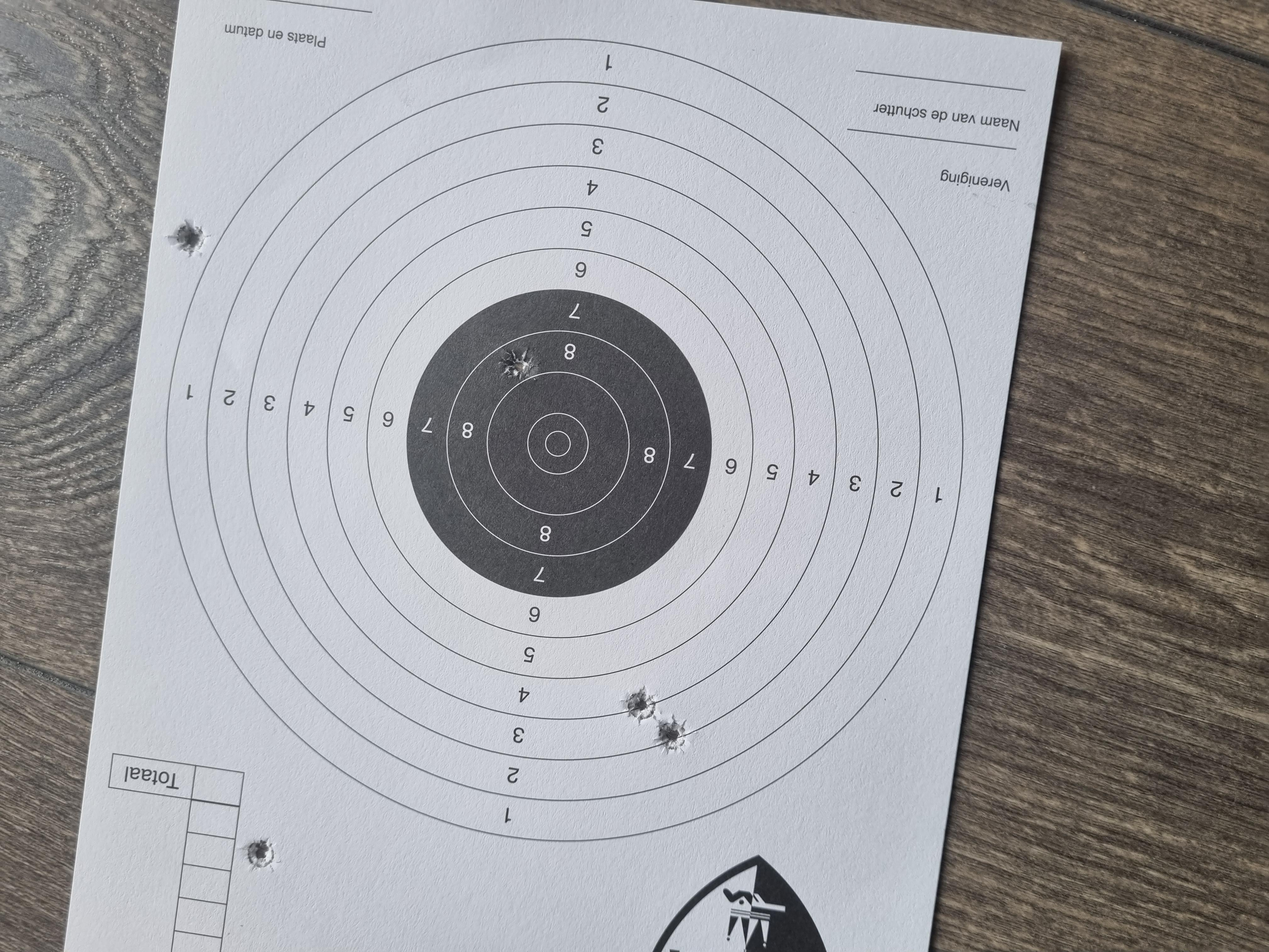hole: (926, 125, 976, 159), (302, 465, 355, 493), (761, 374, 805, 403), (261, 491, 309, 515), (107, 184, 152, 207)
